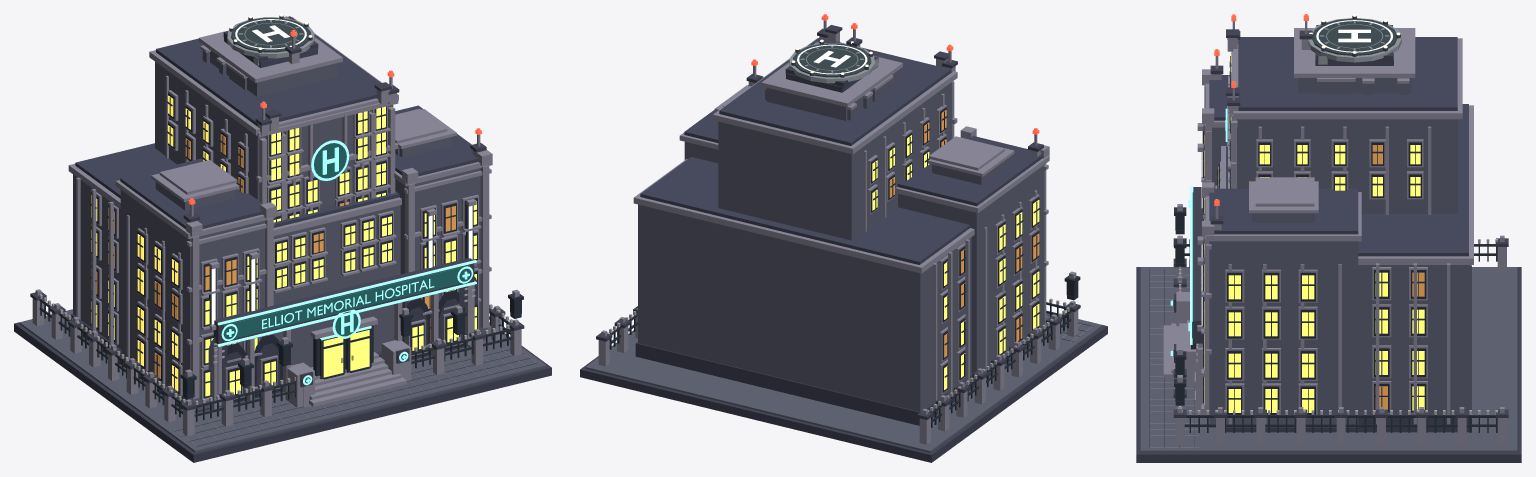
The model's file is elliot_memorial_hospital_8bit.glb.
3 renders of one model, left to right at view 1: azimuth 30°, elevation 25°; view 2: azimuth 150°, elevation 25°; view 3: azimuth 270°, elevation 25°, orthographic. The views are drawn at different scales.
Visible parts, largest first — view 1: SM_Elliot_Memorial_Hospital_8bit.002, SM_Helipad_DarkSurface, SM_Elliot_Hospital_SignLetters.002, SM_Helipad_StoneApron; view 2: SM_Elliot_Memorial_Hospital_8bit.002, SM_Helipad_DarkSurface, SM_Helipad_StoneApron; view 3: SM_Elliot_Memorial_Hospital_8bit.002, SM_Helipad_DarkSurface, SM_Helipad_StoneApron.
Part boxes in pixels (<box>): SM_Elliot_Memorial_Hospital_8bit.002: <box>14,16,551,462</box>; SM_Helipad_DarkSurface: <box>231,17,310,52</box>; SM_Elliot_Hospital_SignLetters.002: <box>262,279,434,329</box>; SM_Helipad_StoneApron: <box>227,17,314,58</box>; SM_Elliot_Memorial_Hospital_8bit.002: <box>580,14,1107,462</box>; SM_Helipad_DarkSurface: <box>793,43,871,77</box>; SM_Helipad_StoneApron: <box>789,42,874,83</box>; SM_Elliot_Memorial_Hospital_8bit.002: <box>1136,14,1521,462</box>; SM_Helipad_DarkSurface: <box>1312,18,1397,55</box>; SM_Helipad_StoneApron: <box>1308,18,1401,62</box>.
Size of the model in its own units: 15.2 by 13.41 by 13.2.
